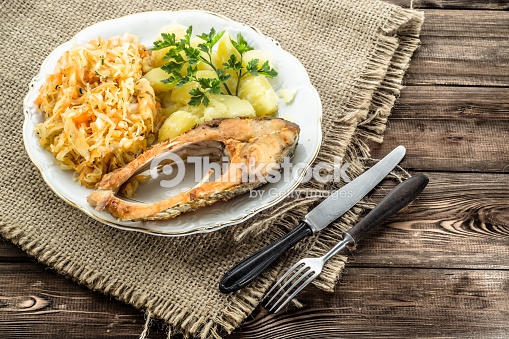boiled potatoes: (172, 37, 252, 120)
